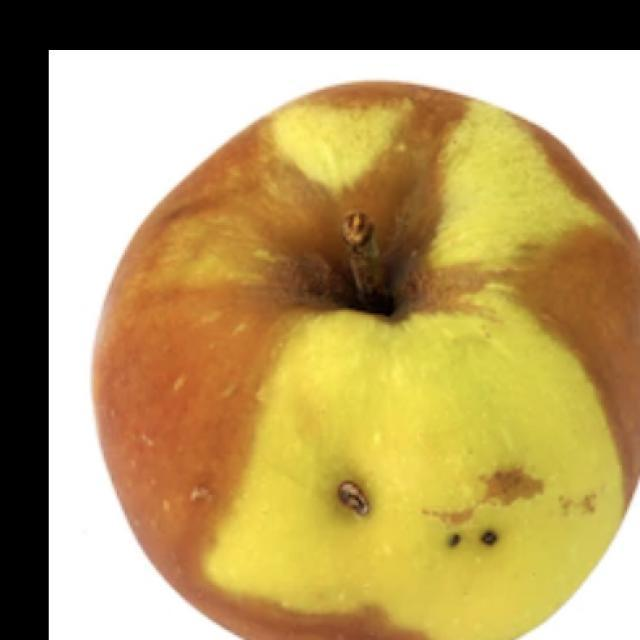Rotten: (96, 83, 639, 640)
